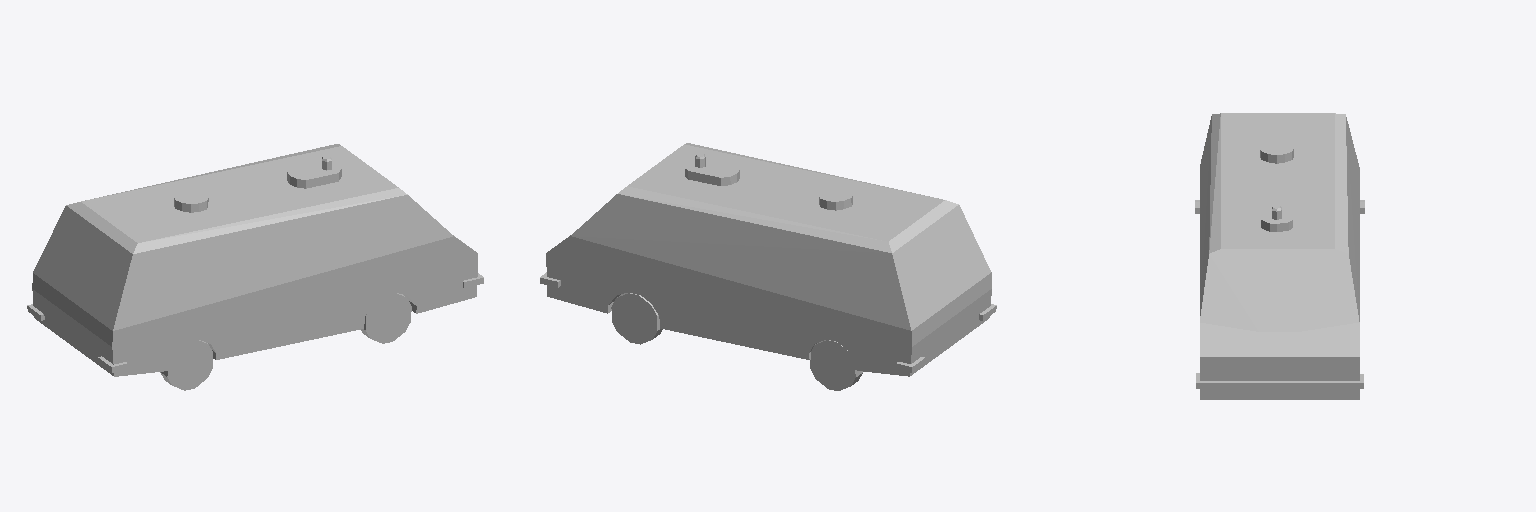
Rendered from ambulance.obj.
The picture shows the model from 3 angles: view 1: azimuth 30°, elevation 25°; view 2: azimuth 150°, elevation 25°; view 3: azimuth 270°, elevation 25°; orthographic projection.
Parts seen in each view (by area): view 1: Group_001, Group_004, Group_002; view 2: Group_001, Group_005, Group_003; view 3: Group_001.
Part boxes in pixels (left/top/right/bottom): Group_001: left=27, top=144, right=483, bottom=376; Group_004: left=361, top=293, right=411, bottom=343; Group_002: left=160, top=340, right=212, bottom=390; Group_001: left=540, top=143, right=996, bottom=376; Group_005: left=611, top=293, right=662, bottom=344; Group_003: left=810, top=340, right=862, bottom=390; Group_001: left=1195, top=113, right=1364, bottom=399.
Bounding box in the file's own units: 234 × 99.37 × 92.13.